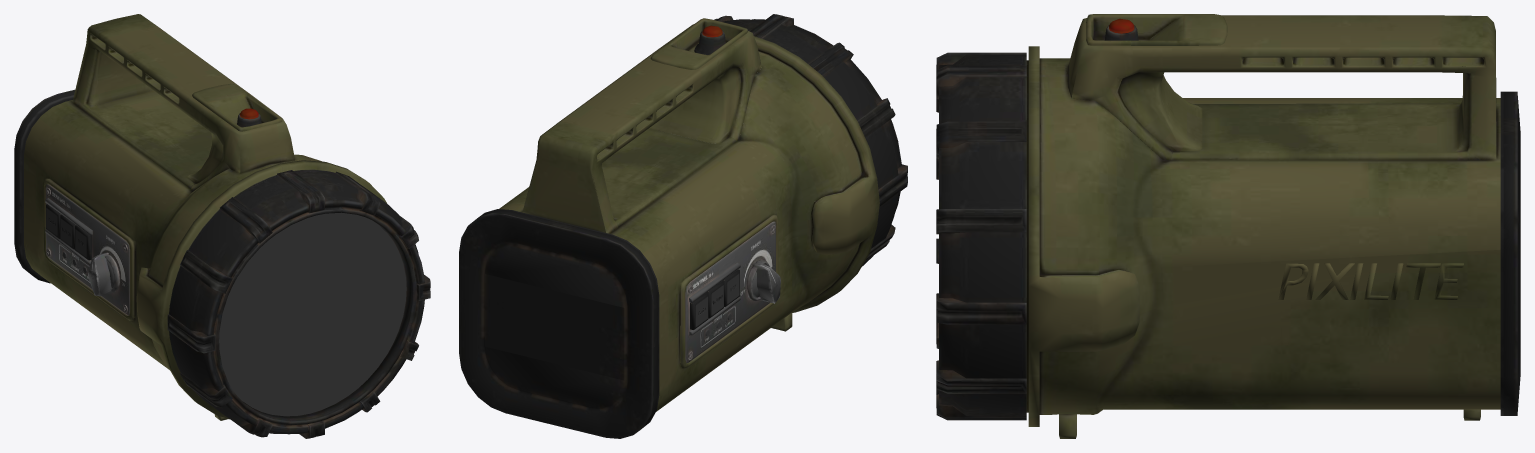
Rendered from el_projektoru.gltf.
3 renders of one model, left to right at view 1: azimuth 30°, elevation 25°; view 2: azimuth 150°, elevation 25°; view 3: azimuth 270°, elevation 25°, orthographic. The views are drawn at different scales.
Parts seen in each view (by area): view 1: el_projektoru; view 2: el_projektoru; view 3: el_projektoru.
Part boxes in pixels (box(x1,y1,x2,y2)): el_projektoru: box(14, 14, 430, 438); el_projektoru: box(459, 14, 907, 438); el_projektoru: box(936, 14, 1520, 438).
Size of what is drawn, in the model's own units: 0.1653 by 0.1854 by 0.2534.
Materials: 2 (2 with a texture image).
